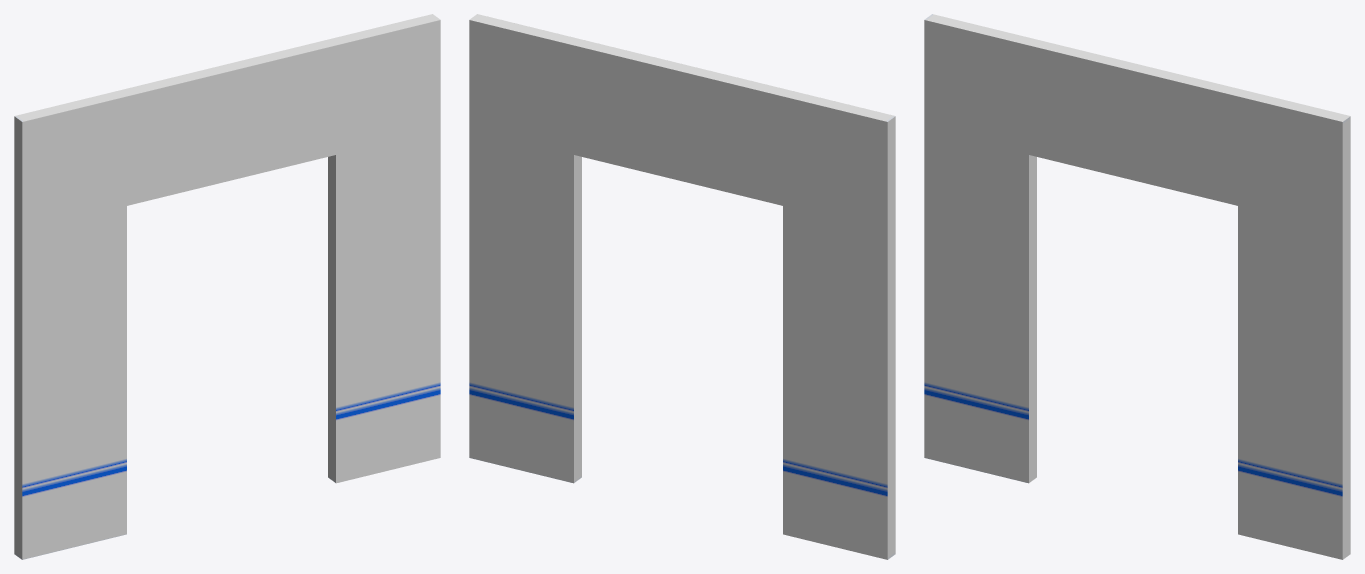
Rendered from Tile_Wall_DoorFrame.fbx.
3 views of the same model, side by side, from view 1: azimuth 30°, elevation 25°; view 2: azimuth 150°, elevation 25°; view 3: azimuth 330°, elevation 25° (orthographic).
Parts seen in each view (by area): view 1: Tile_Wall_DoorFrame; view 2: Tile_Wall_DoorFrame; view 3: Tile_Wall_DoorFrame.
Boxes of the visible parts, x1,y1,x2,y2 form: Tile_Wall_DoorFrame: (14, 14, 440, 559); Tile_Wall_DoorFrame: (469, 14, 895, 559); Tile_Wall_DoorFrame: (924, 14, 1350, 559).
Bounding box in the file's own units: 3 × 3 × 0.1.
